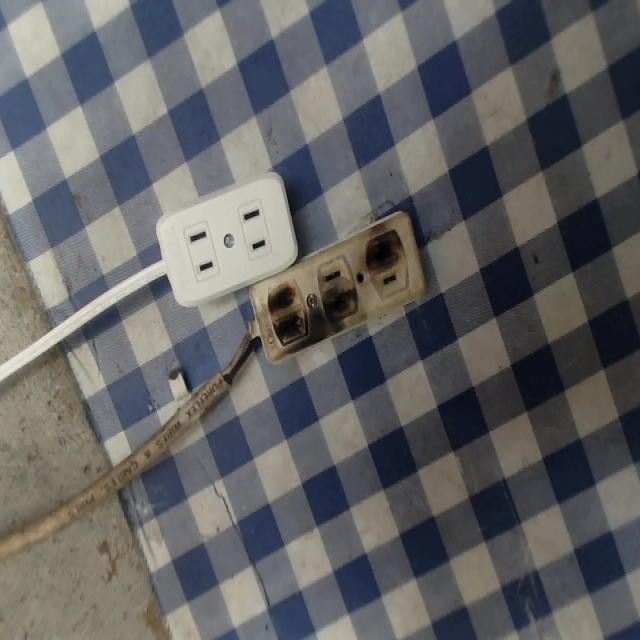-: (257, 277, 311, 356), (359, 227, 410, 276), (322, 286, 364, 334)
